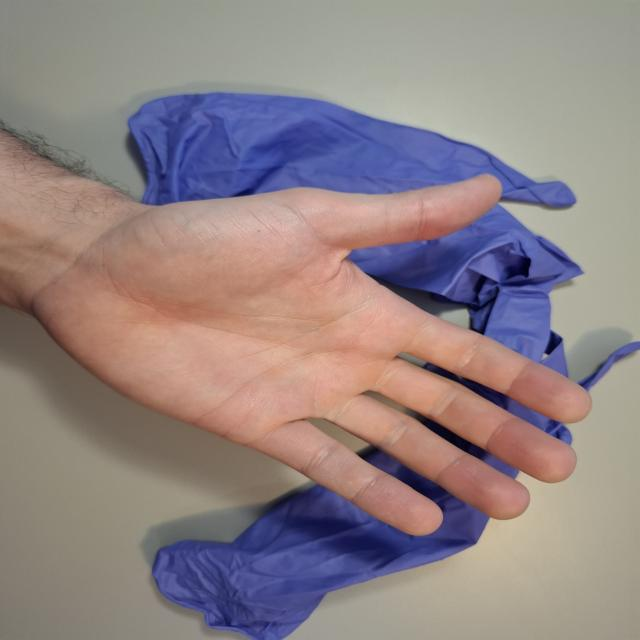glove_off: (24, 168, 597, 540)
